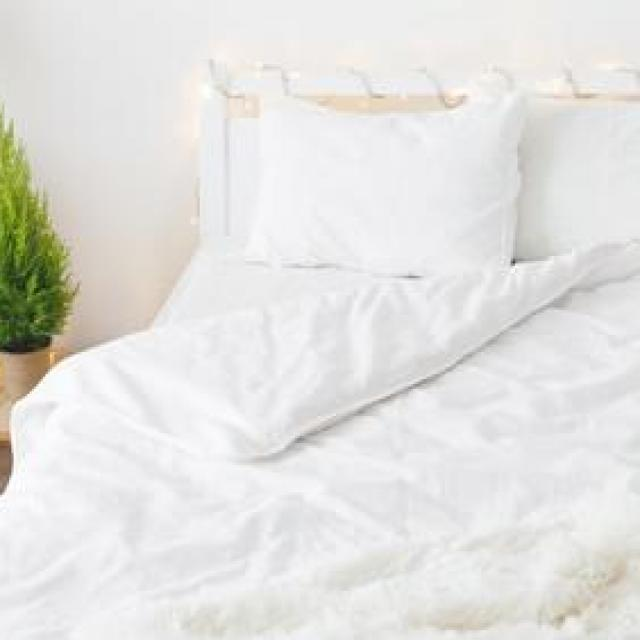bed: (2, 66, 640, 640)
